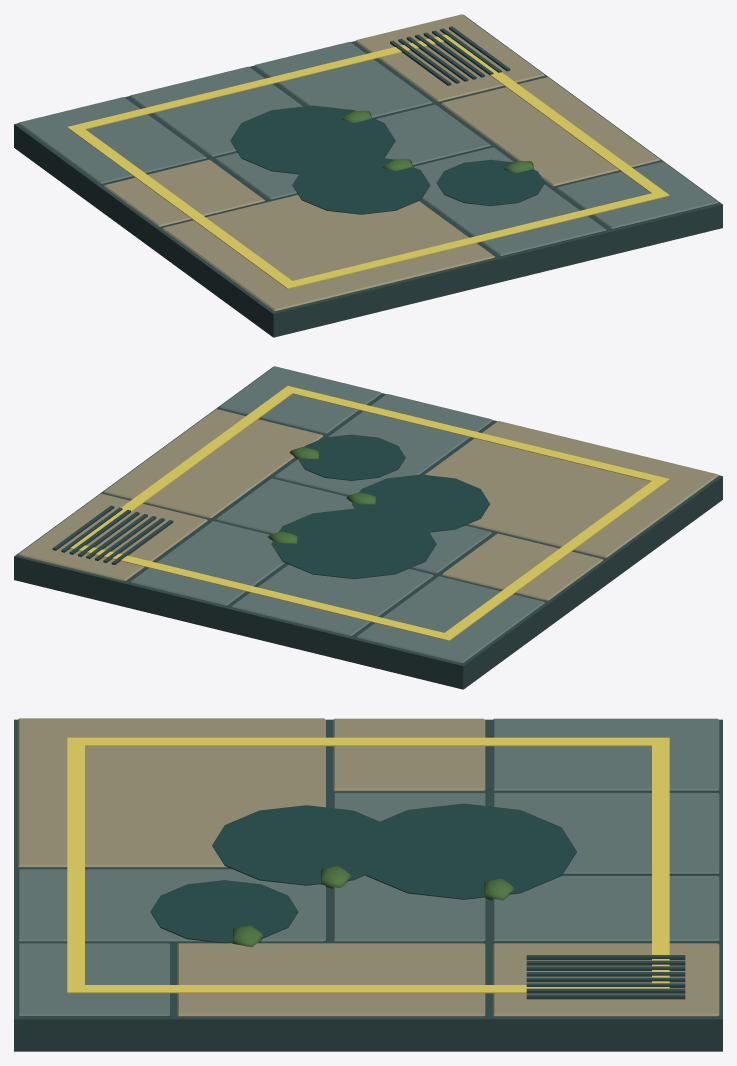
The model's file is floor_dr_work.glb.
3 renders of one model, top to bottom at view 1: azimuth 30°, elevation 25°; view 2: azimuth 150°, elevation 25°; view 3: azimuth 270°, elevation 25°, orthographic. The views are drawn at different scales.
Visible parts, largest first — view 1: floor_dr_work; view 2: floor_dr_work; view 3: floor_dr_work.
Boxes of the visible parts, x1,y1,x2,y2 form: floor_dr_work: (14, 14, 722, 337); floor_dr_work: (14, 366, 722, 689); floor_dr_work: (14, 718, 722, 1051).
Size of the model in its own units: 4 by 0.27 by 4.
